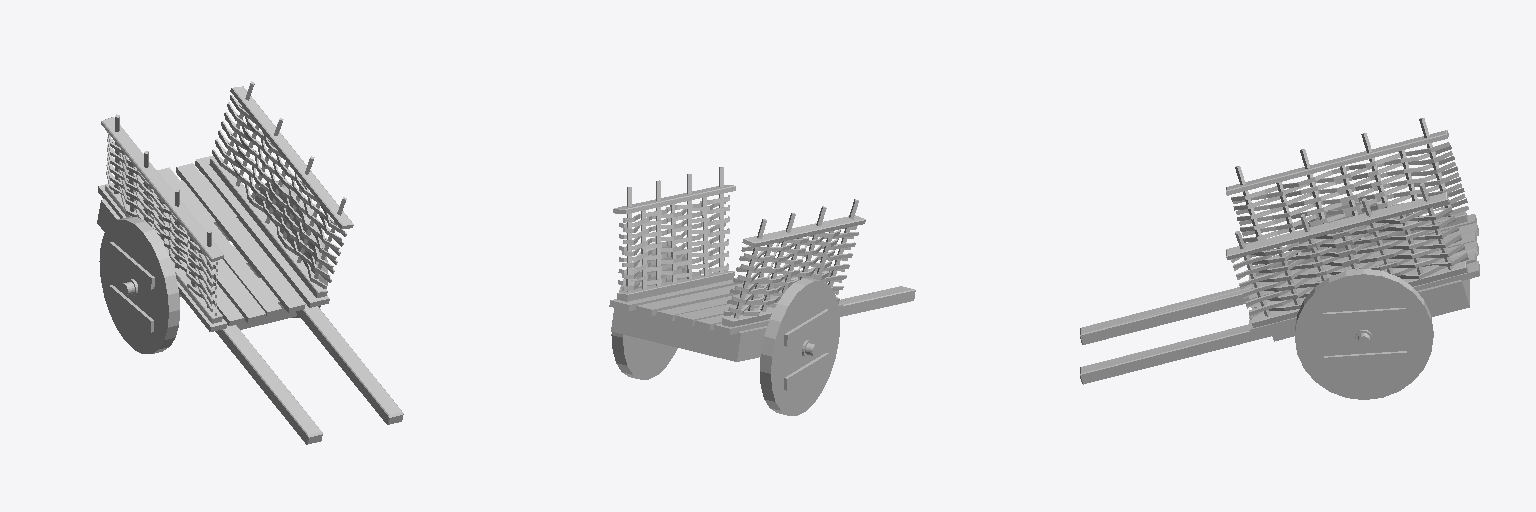
3 views of the same model, side by side, from view 1: azimuth 30°, elevation 25°; view 2: azimuth 150°, elevation 25°; view 3: azimuth 270°, elevation 25° (orthographic).
Visible parts, largest first — view 1: wagen1_Lp_; view 2: wagen1_Lp_; view 3: wagen1_Lp_.
Part boxes in pixels (x1,y1,x2,y2): wagen1_Lp_: (97, 81, 403, 444); wagen1_Lp_: (609, 167, 915, 415); wagen1_Lp_: (1080, 118, 1479, 399).
Bounding box in the file's own units: 1.1 × 1.24 × 2.13.